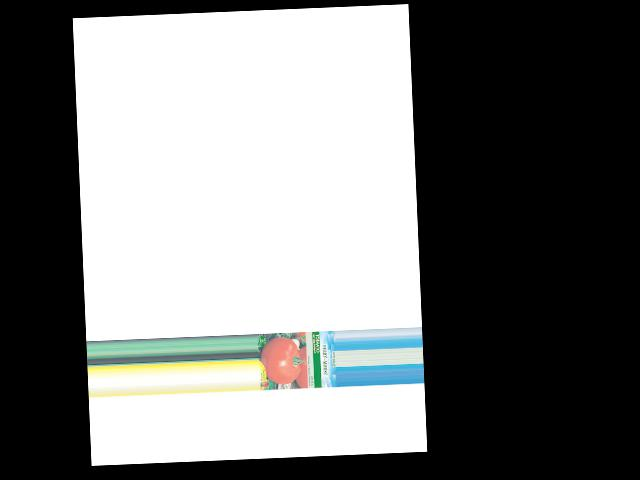tomato: (259, 336, 300, 385)
